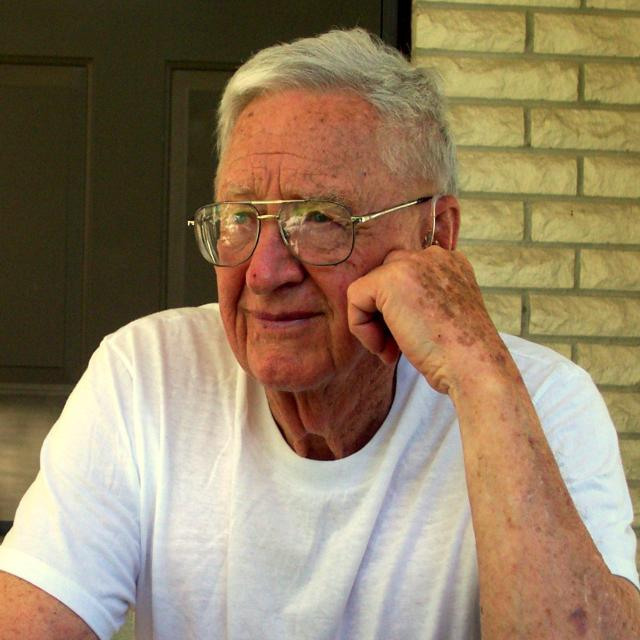no-glass: (210, 200, 354, 235)
